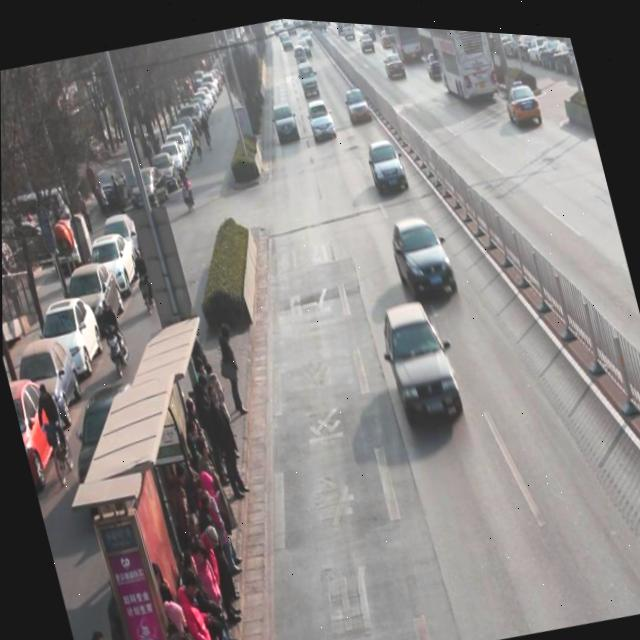car: (376, 289, 466, 424), (387, 204, 460, 304), (364, 129, 411, 193), (503, 72, 545, 126), (304, 92, 338, 141), (270, 95, 301, 141), (343, 79, 373, 122), (424, 43, 449, 77), (383, 45, 408, 76)
truck: (295, 54, 321, 96)
van: (422, 22, 499, 103)
